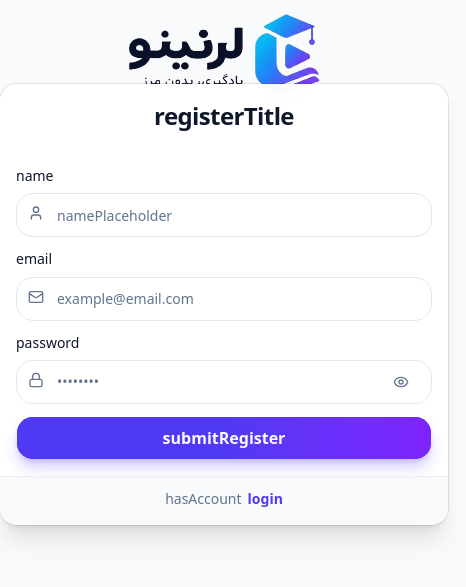
it: RegisterForm › should show password min length error for short password
Type "user@example.com" into the field with placeholder "example@email.com" at (224, 298), box [16,276,432,320]
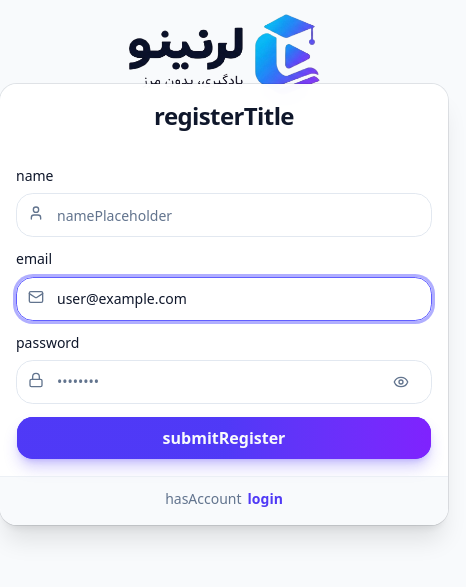
Type "abc" into the password field with placeholder "••••••••" at (224, 382), box [16,360,432,404]
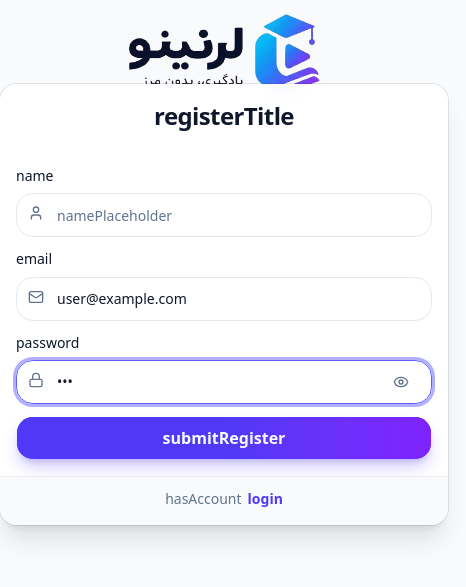
Click the button "submitRegister" at (224, 438), box [16,416,432,460]
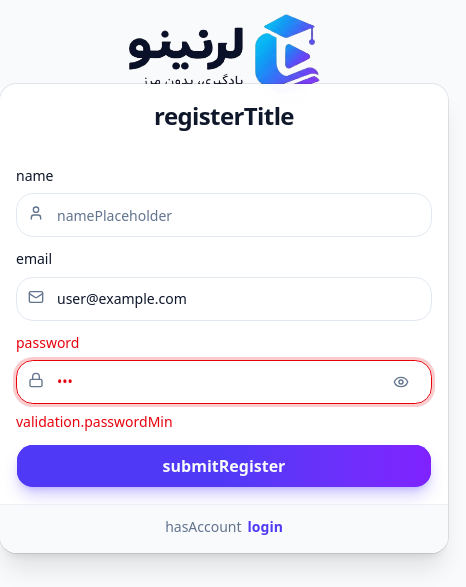
Result: the text "validation.passwordMin" is shown at [16,412,173,431]
